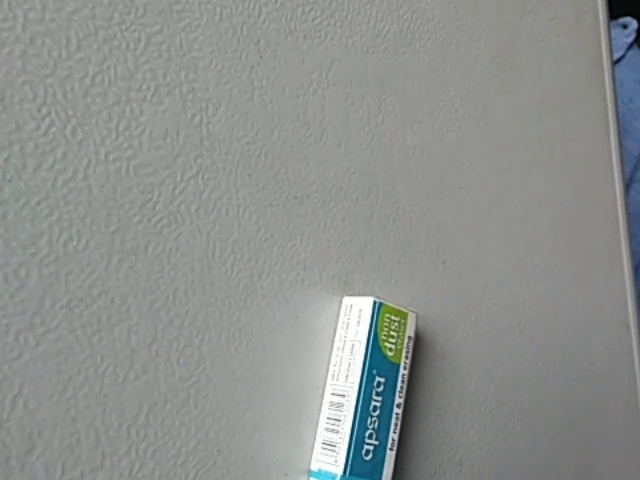Eraser: (300, 288, 420, 480)
